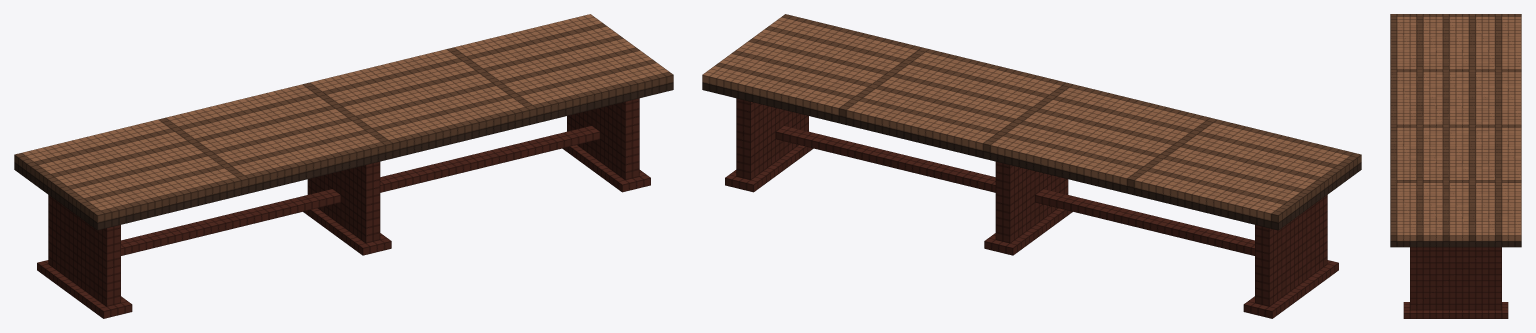
File: communal_table.glb
3 views of the same model, side by side, from view 1: azimuth 30°, elevation 25°; view 2: azimuth 150°, elevation 25°; view 3: azimuth 270°, elevation 25° (orthographic). The views are drawn at different scales.
Parts seen in each view (by area): view 1: communal_table; view 2: communal_table; view 3: communal_table.
Boxes of the visible parts, bbox=[...] form: communal_table: bbox=[14, 14, 673, 318]; communal_table: bbox=[702, 14, 1361, 318]; communal_table: bbox=[1390, 14, 1521, 318].
Size of the model in its own units: 4 by 0.75 by 1.
Materials: 4 (4 with a texture image).
